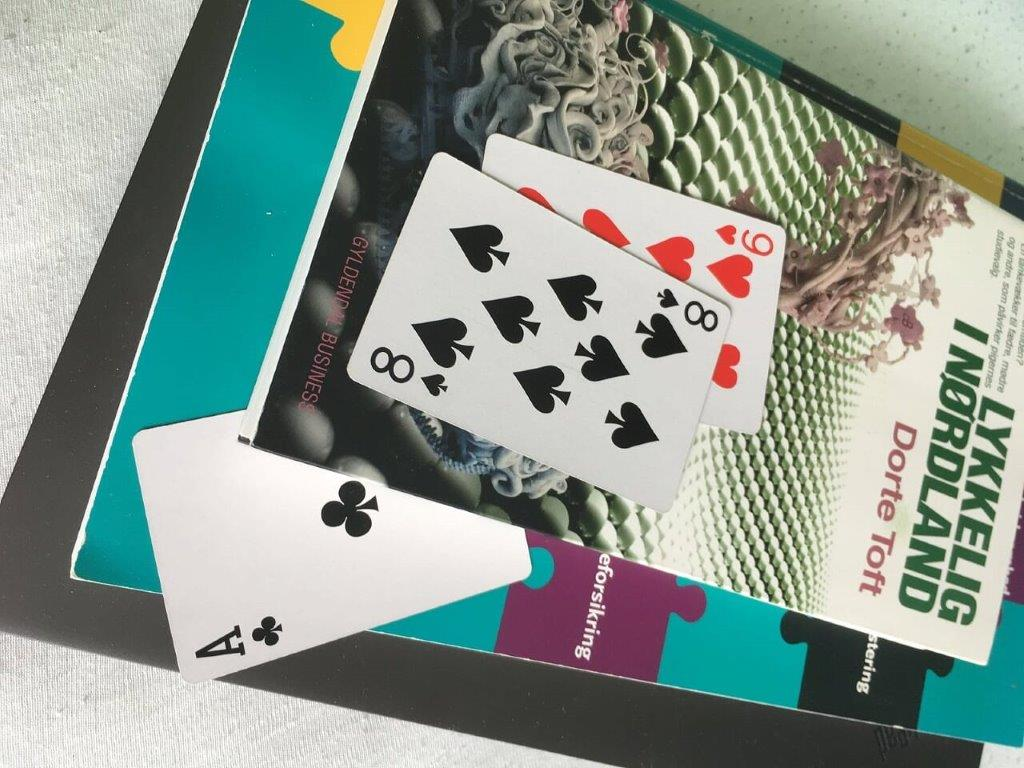8S: (345, 149, 731, 515)
9H: (731, 207, 788, 436)
AC: (131, 529, 532, 685)
